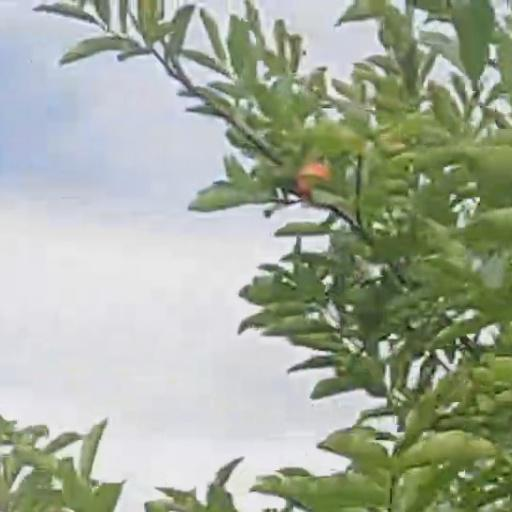acerola_vermelha: (298, 165, 327, 191)
